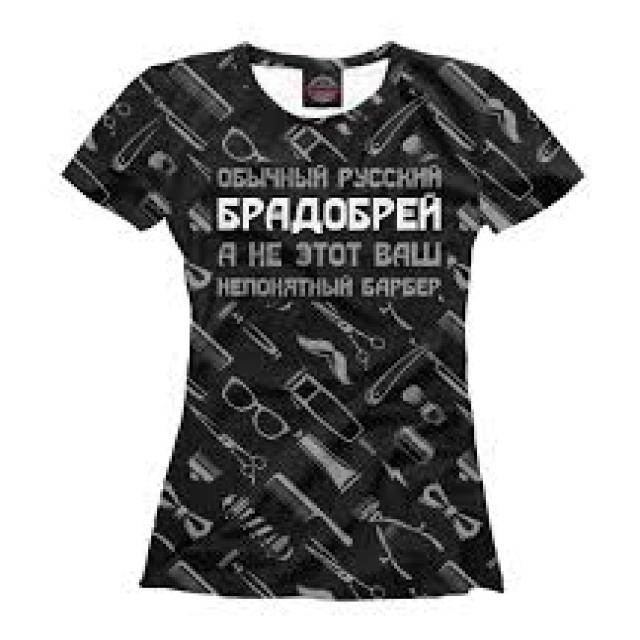Shirt: (39, 32, 588, 609)
